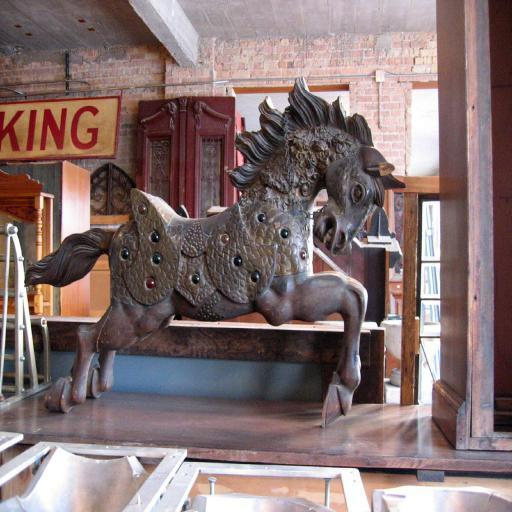horse: (22, 74, 406, 418)
